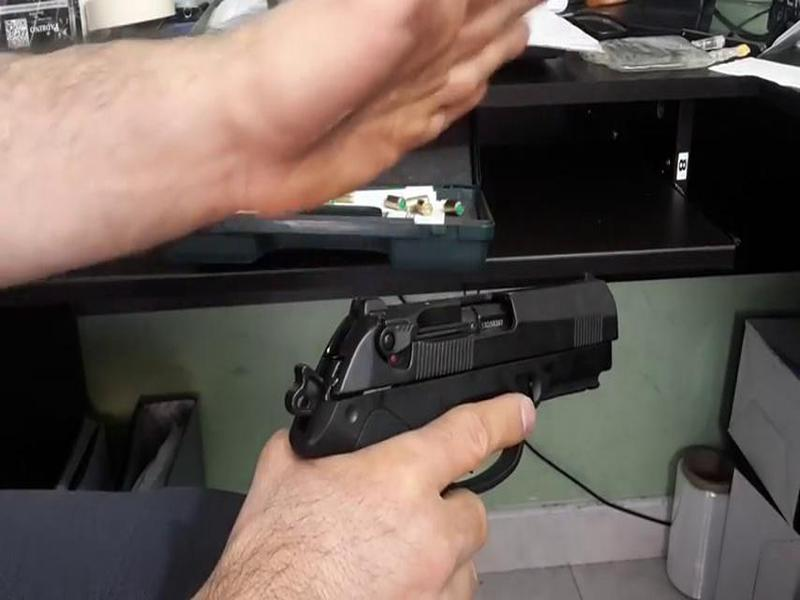Pistola: (270, 274, 654, 499)
